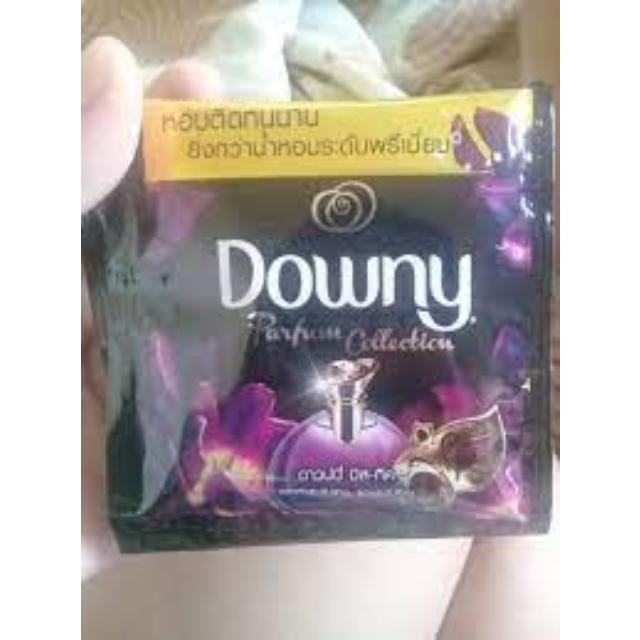Paquete de plastico: (87, 92, 555, 545)
